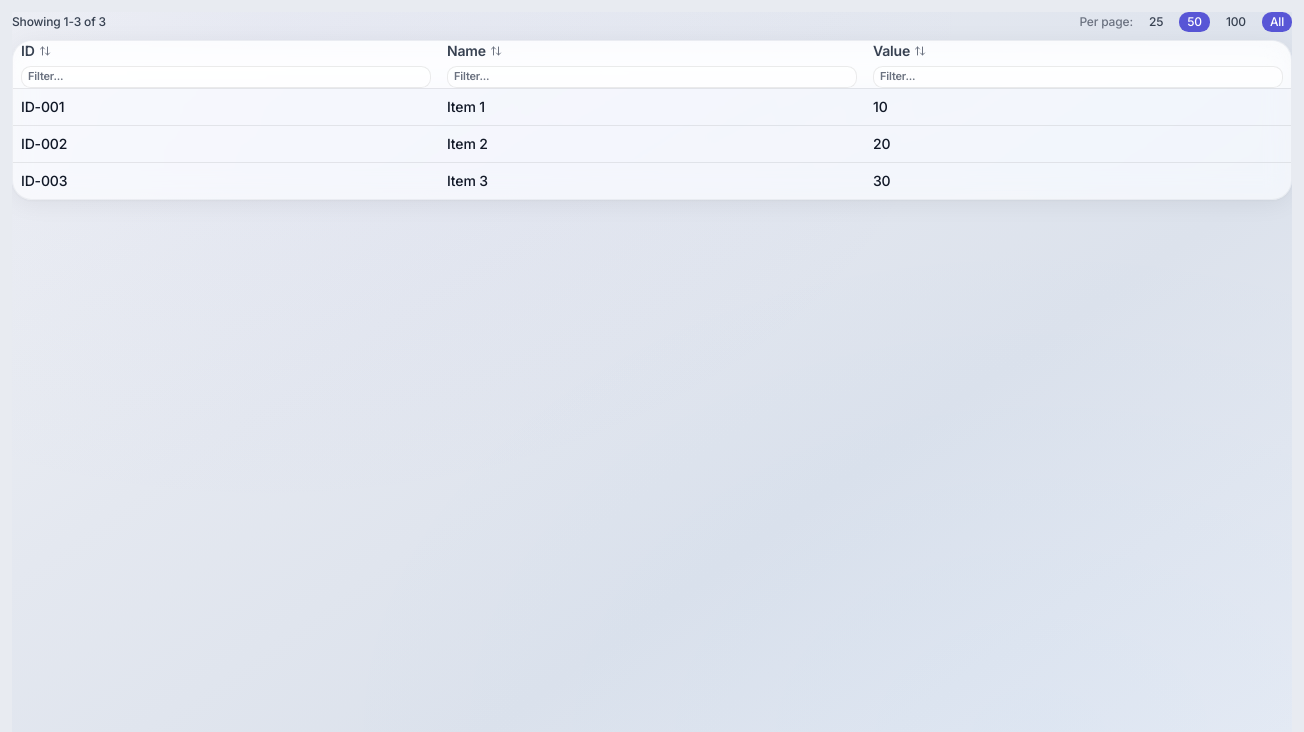
Test case: DataTable › shows no results message when filter matches nothing
Type "NONEXISTENT" into the 1st field with placeholder "Filter..." at [226, 77], box [21,66,431,88]
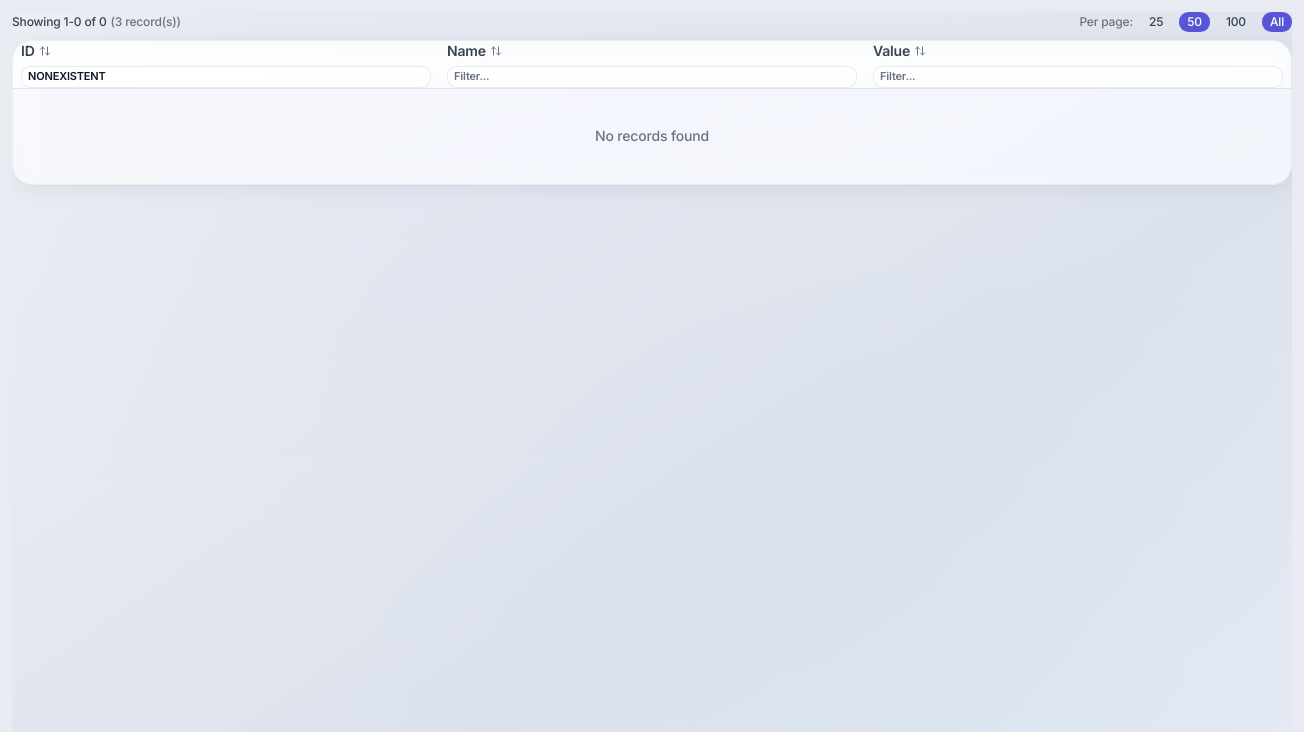
Expected: the text "No records found" is shown, [13,88,1291,184]
